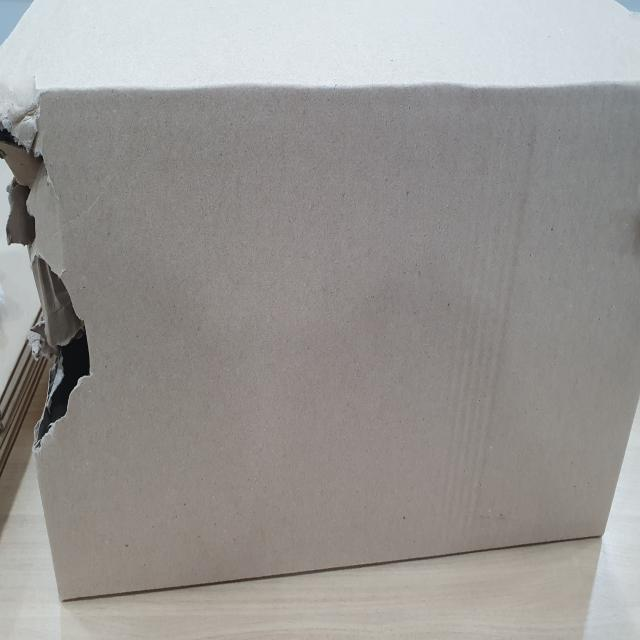hole: (7, 107, 101, 439)
